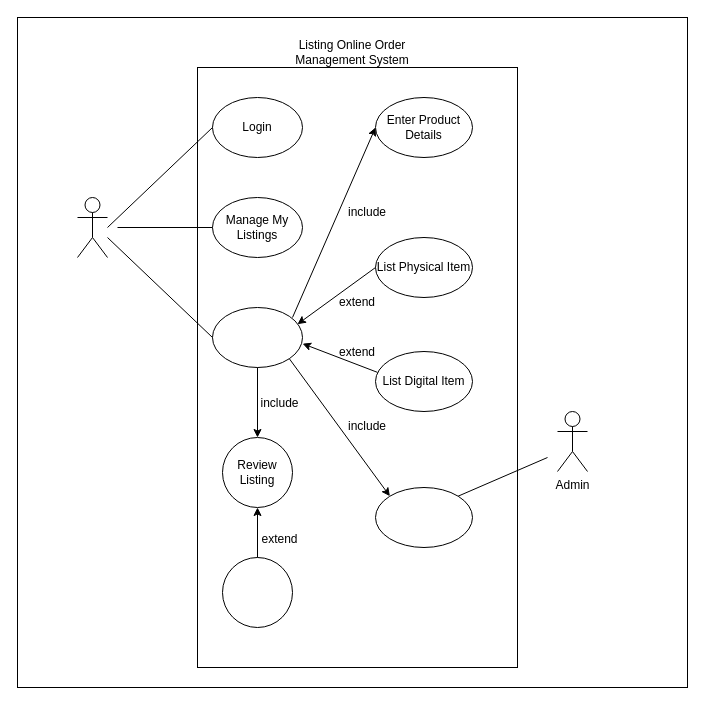
This 705x705 diagram has some shape labels left out. Here are the shapes that lost their labels. From the top down, the centre of each, then its label:
the point at 92,227: Seller
the point at 257,337: Add New Listing
the point at 423,517: Submit for Approval
the point at 257,592: Complete Missing Fields
